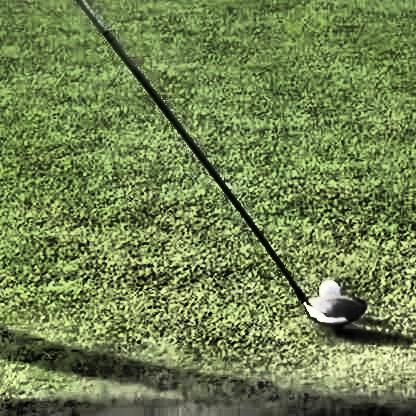golfball: (315, 276, 337, 299)
